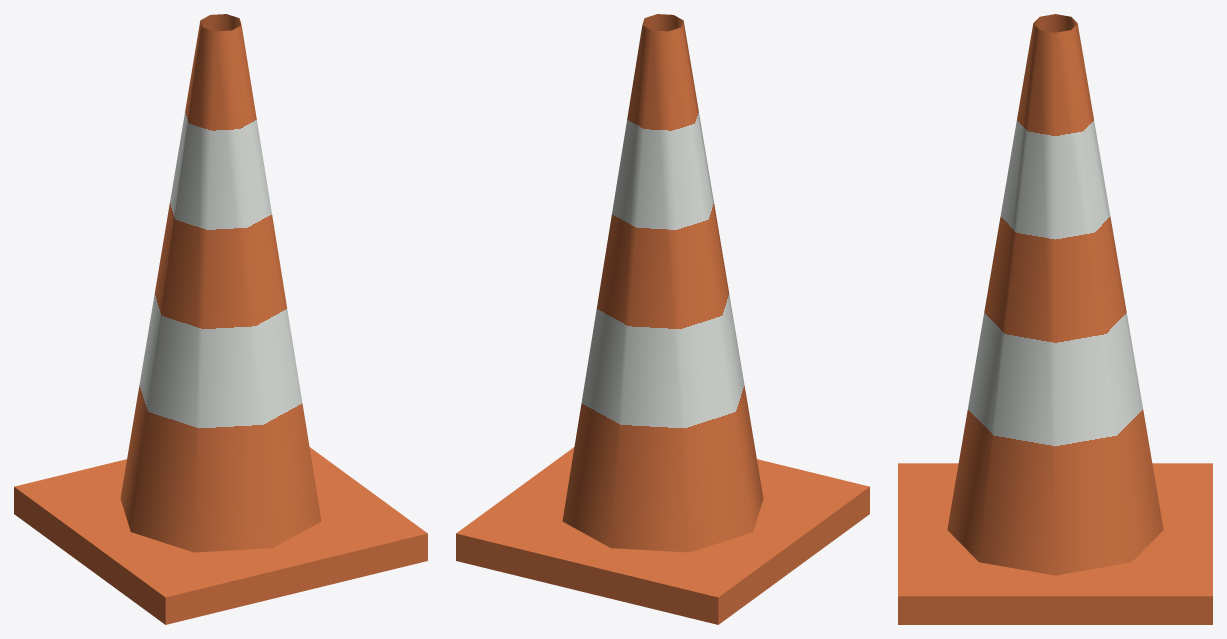
3 views of the same model, side by side, from view 1: azimuth 30°, elevation 25°; view 2: azimuth 150°, elevation 25°; view 3: azimuth 270°, elevation 25° (orthographic). The views are drawn at different scales.
Parts seen in each view (by area): view 1: Cone75; view 2: Cone75; view 3: Cone75.
Part boxes in pixels (x1,y1,x2,y2): Cone75: (14,14,427,624); Cone75: (456,14,869,624); Cone75: (898,14,1212,624).
Size of the model in its own units: 0.4 by 0.75 by 0.4.
Materials: 1 (1 with a texture image).
